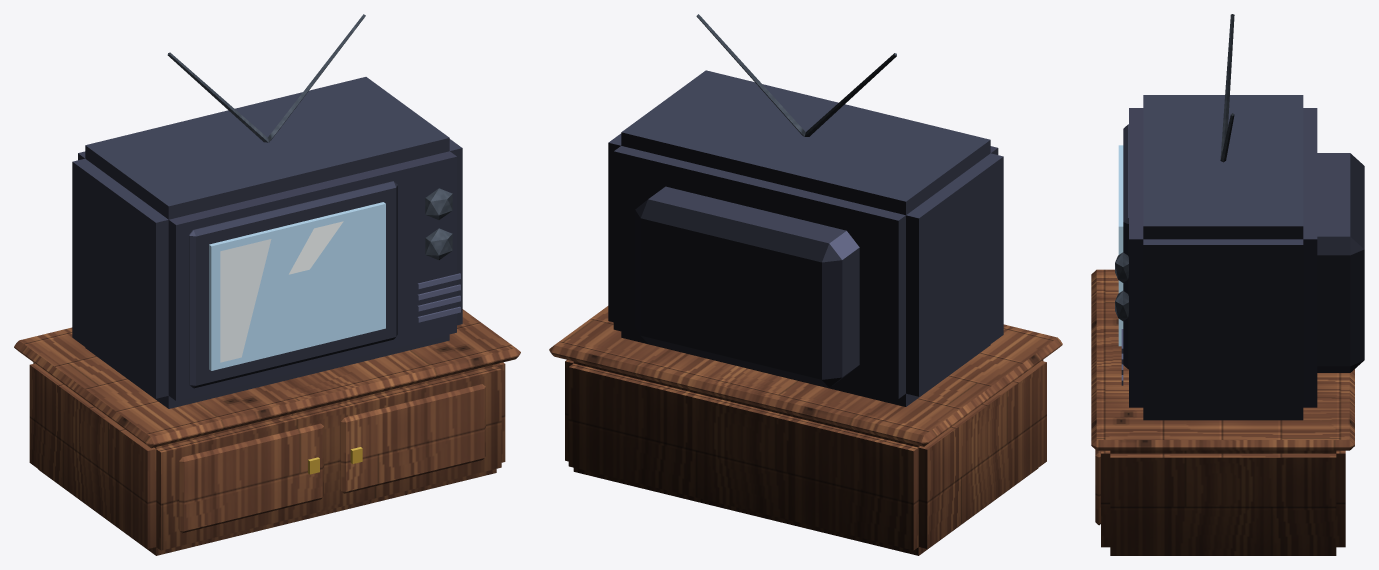
File: tv_crt.glb
3 views of the same model, side by side, from view 1: azimuth 30°, elevation 25°; view 2: azimuth 150°, elevation 25°; view 3: azimuth 270°, elevation 25° (orthographic). The views are drawn at different scales.
Visible parts, largest first — view 1: tv_crt; view 2: tv_crt; view 3: tv_crt.
Part boxes in pixels (x1,y1,x2,y2): tv_crt: (14,14,520,555); tv_crt: (549,14,1062,555); tv_crt: (1091,14,1364,555).
Size of the model in its own units: 0.88 by 0.9847 by 0.58.
6 materials, 6 textured.
